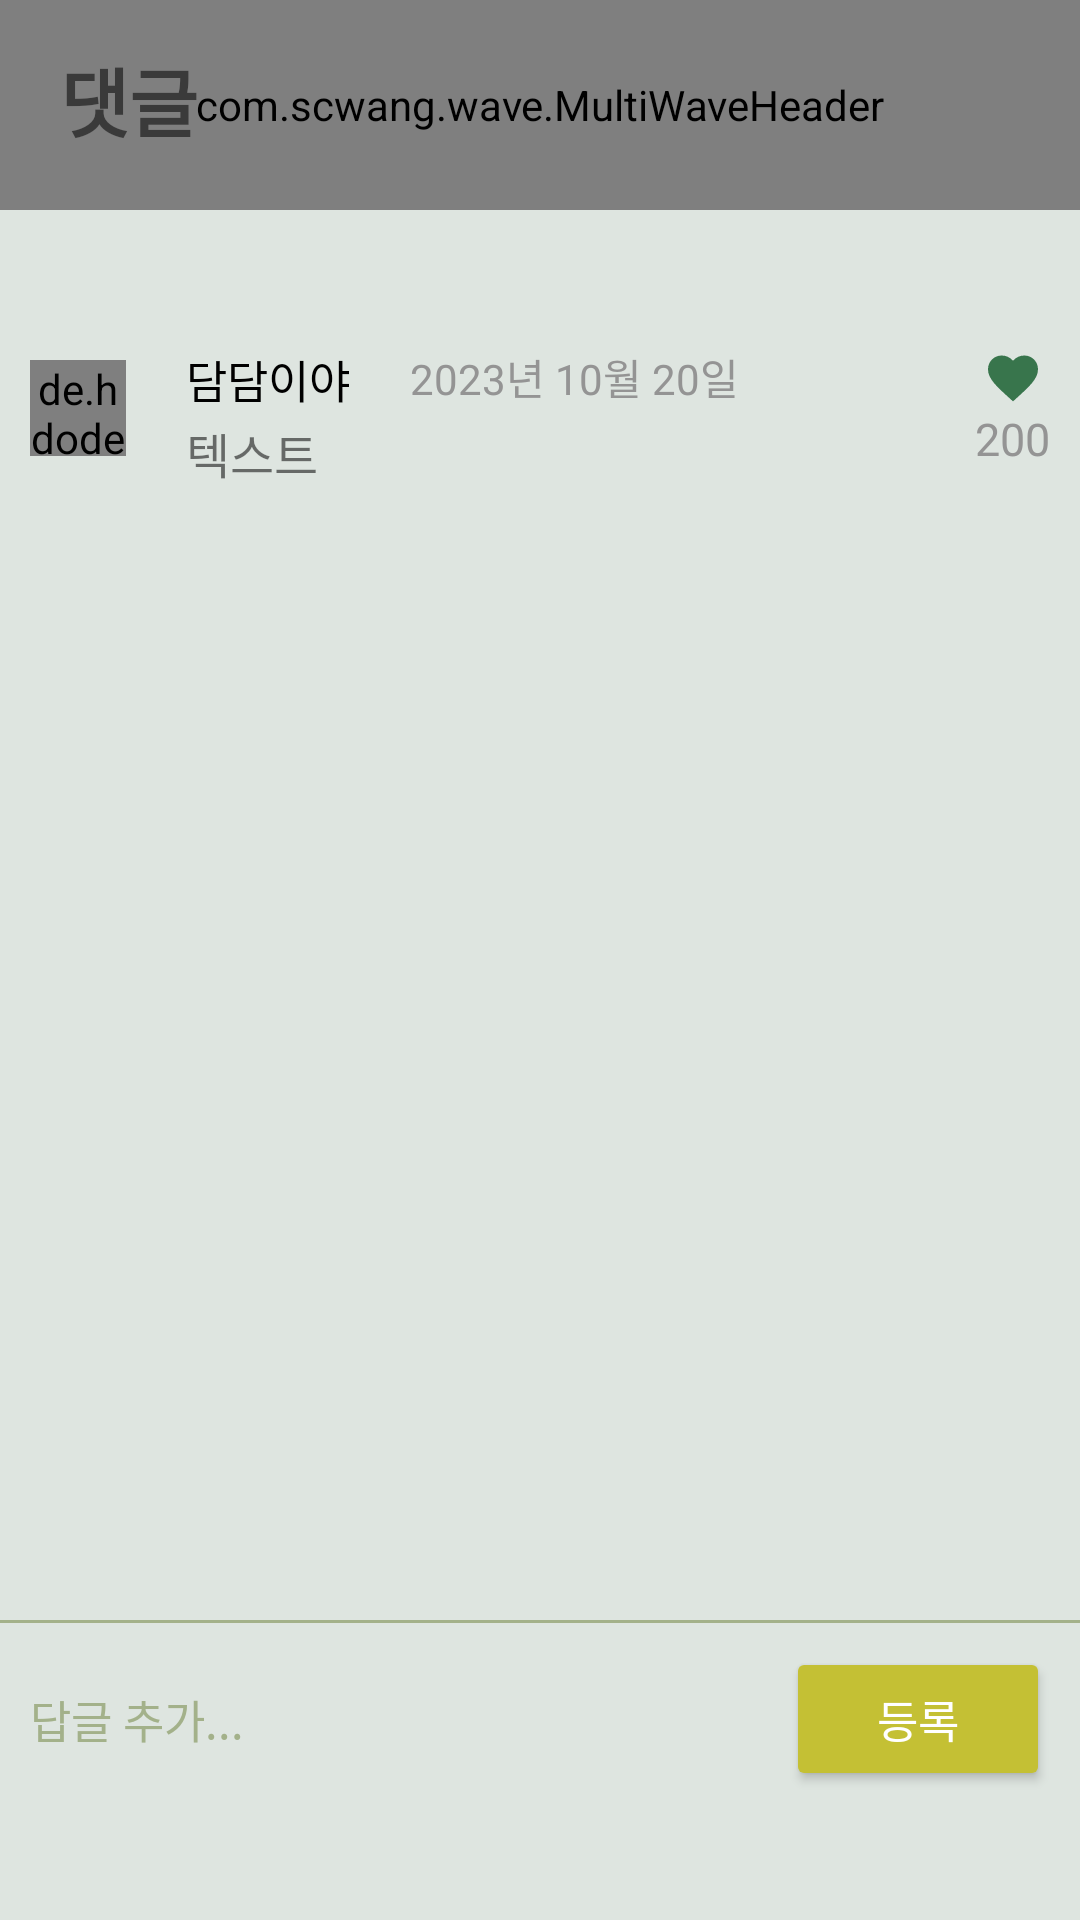

Screen size 1080x1920. Icon name, then its box in pixels as (x1, y1, x2, y2):
newgreenheart: (988, 355, 1038, 401)
